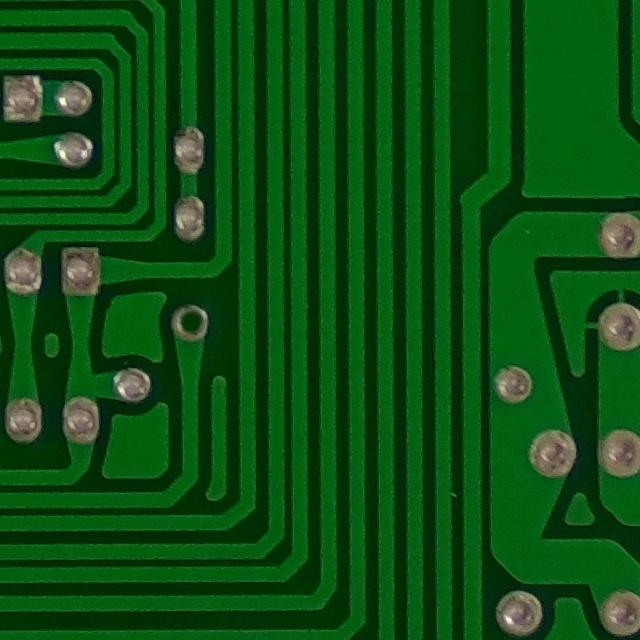missing_hole: (166, 294, 217, 347)
